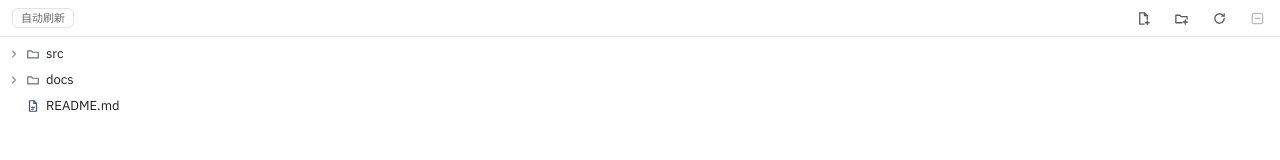
Scenario: opening and the tree › explains an unreadable directory (permission_denied)
Click the list item "docs" at point(41, 80), box [8,71,74,88]
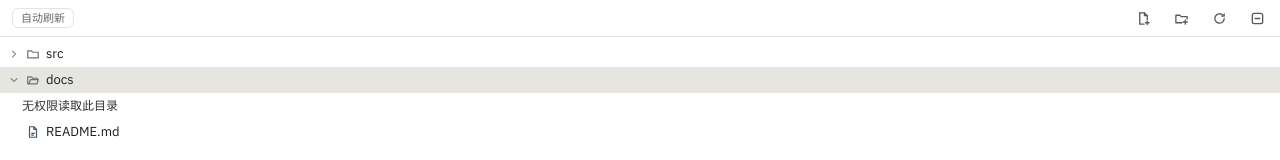
Check: the text "无权限读取此目录" is shown, box [22,97,118,115]
